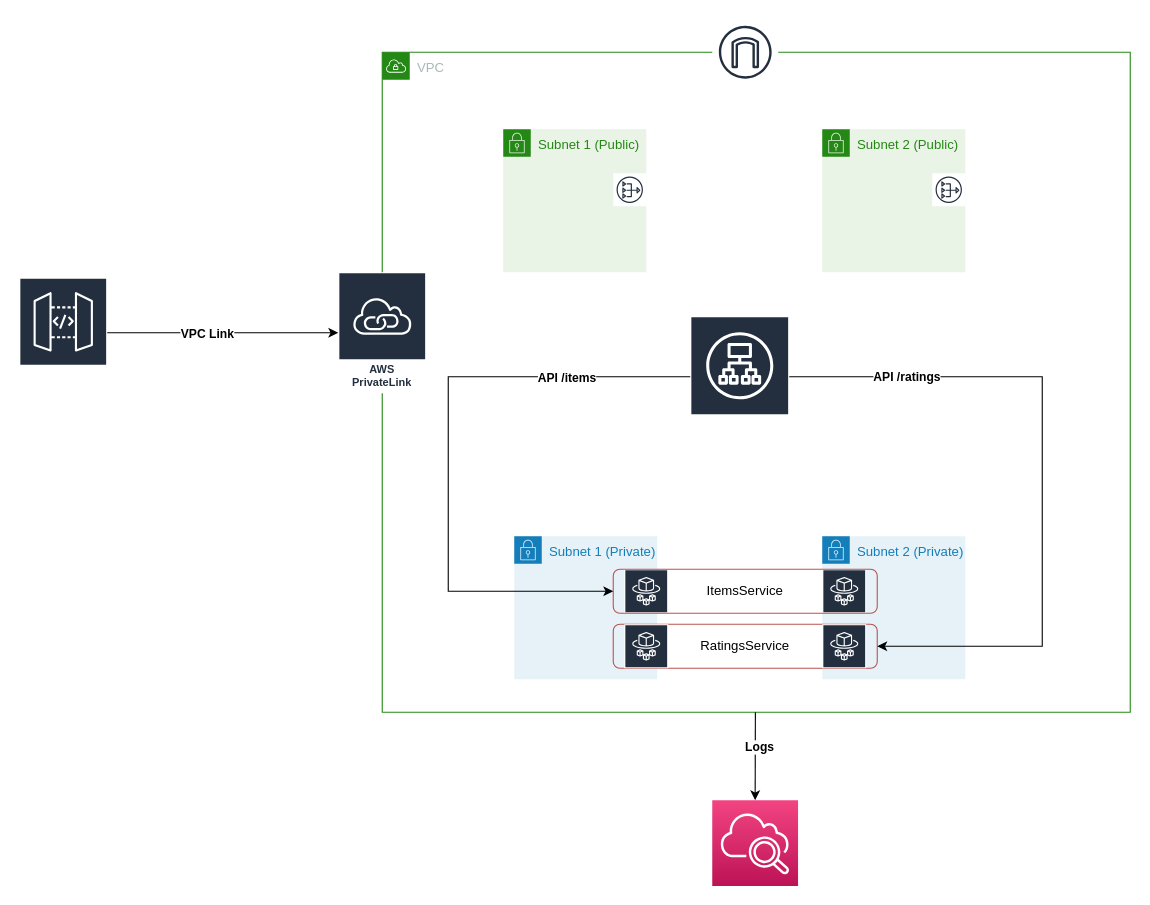
Some shapes in this 1150 by 905 pixel diagram are drawn without their labels. The centre of each missing label's shape, as x and y in pixels:
"ALB" belongs at (x=739, y=376).
"API Gateway" belongs at (x=62, y=332).
